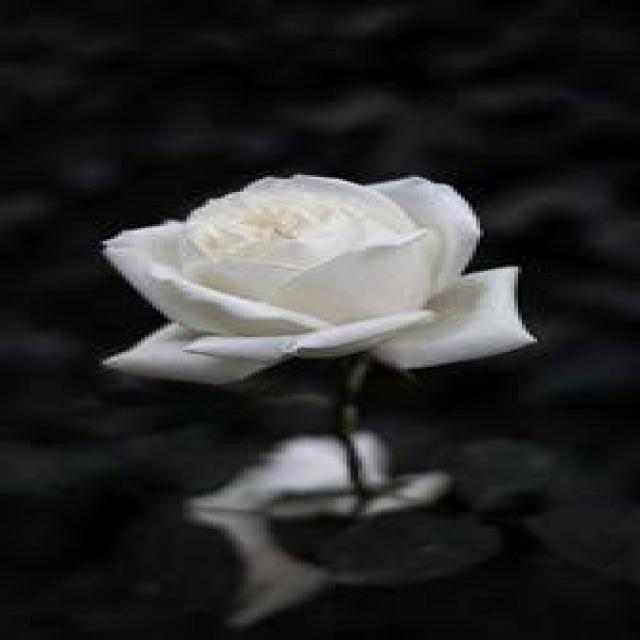rose: (61, 162, 600, 407)
